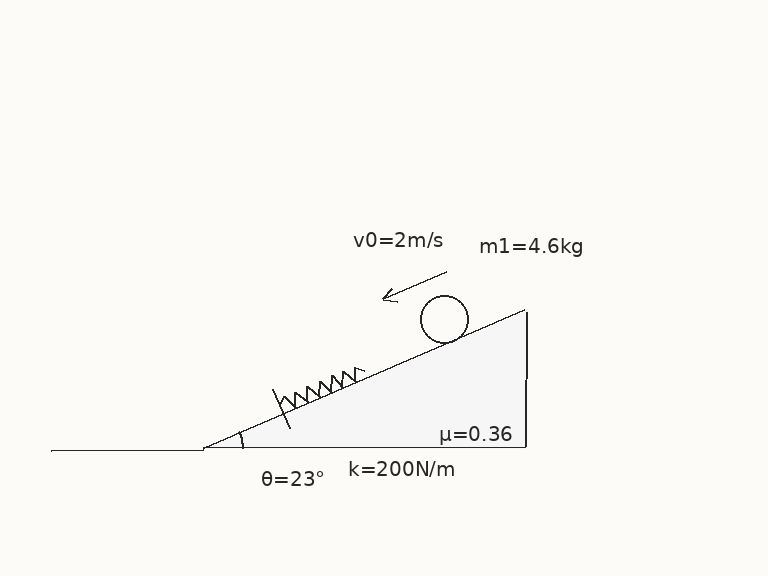ball: (418, 293, 470, 345)
ramp: (201, 309, 527, 450)
spring: (278, 364, 366, 409)
